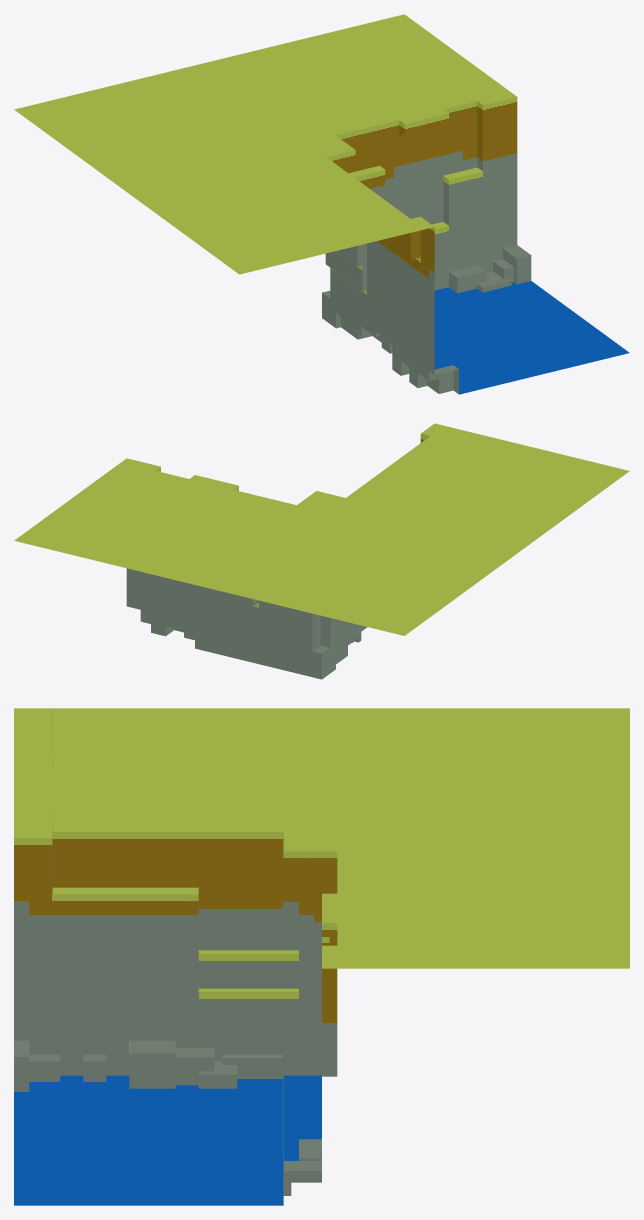
File: MMWM(1).glb
3 views of the same model, one above another, from view 1: azimuth 30°, elevation 25°; view 2: azimuth 150°, elevation 25°; view 3: azimuth 270°, elevation 25° (orthographic). The views are drawn at different scales.
Visible parts, largest first — view 1: model_0.022; view 2: model_0.022; view 3: model_0.022.
Boxes of the visible parts, x1,y1,x2,y2 form: model_0.022: [14, 14, 629, 394]; model_0.022: [14, 423, 629, 679]; model_0.022: [14, 708, 629, 1205].
Size of the model in its own units: 80 by 34 by 80.
1 material, 1 textured.
